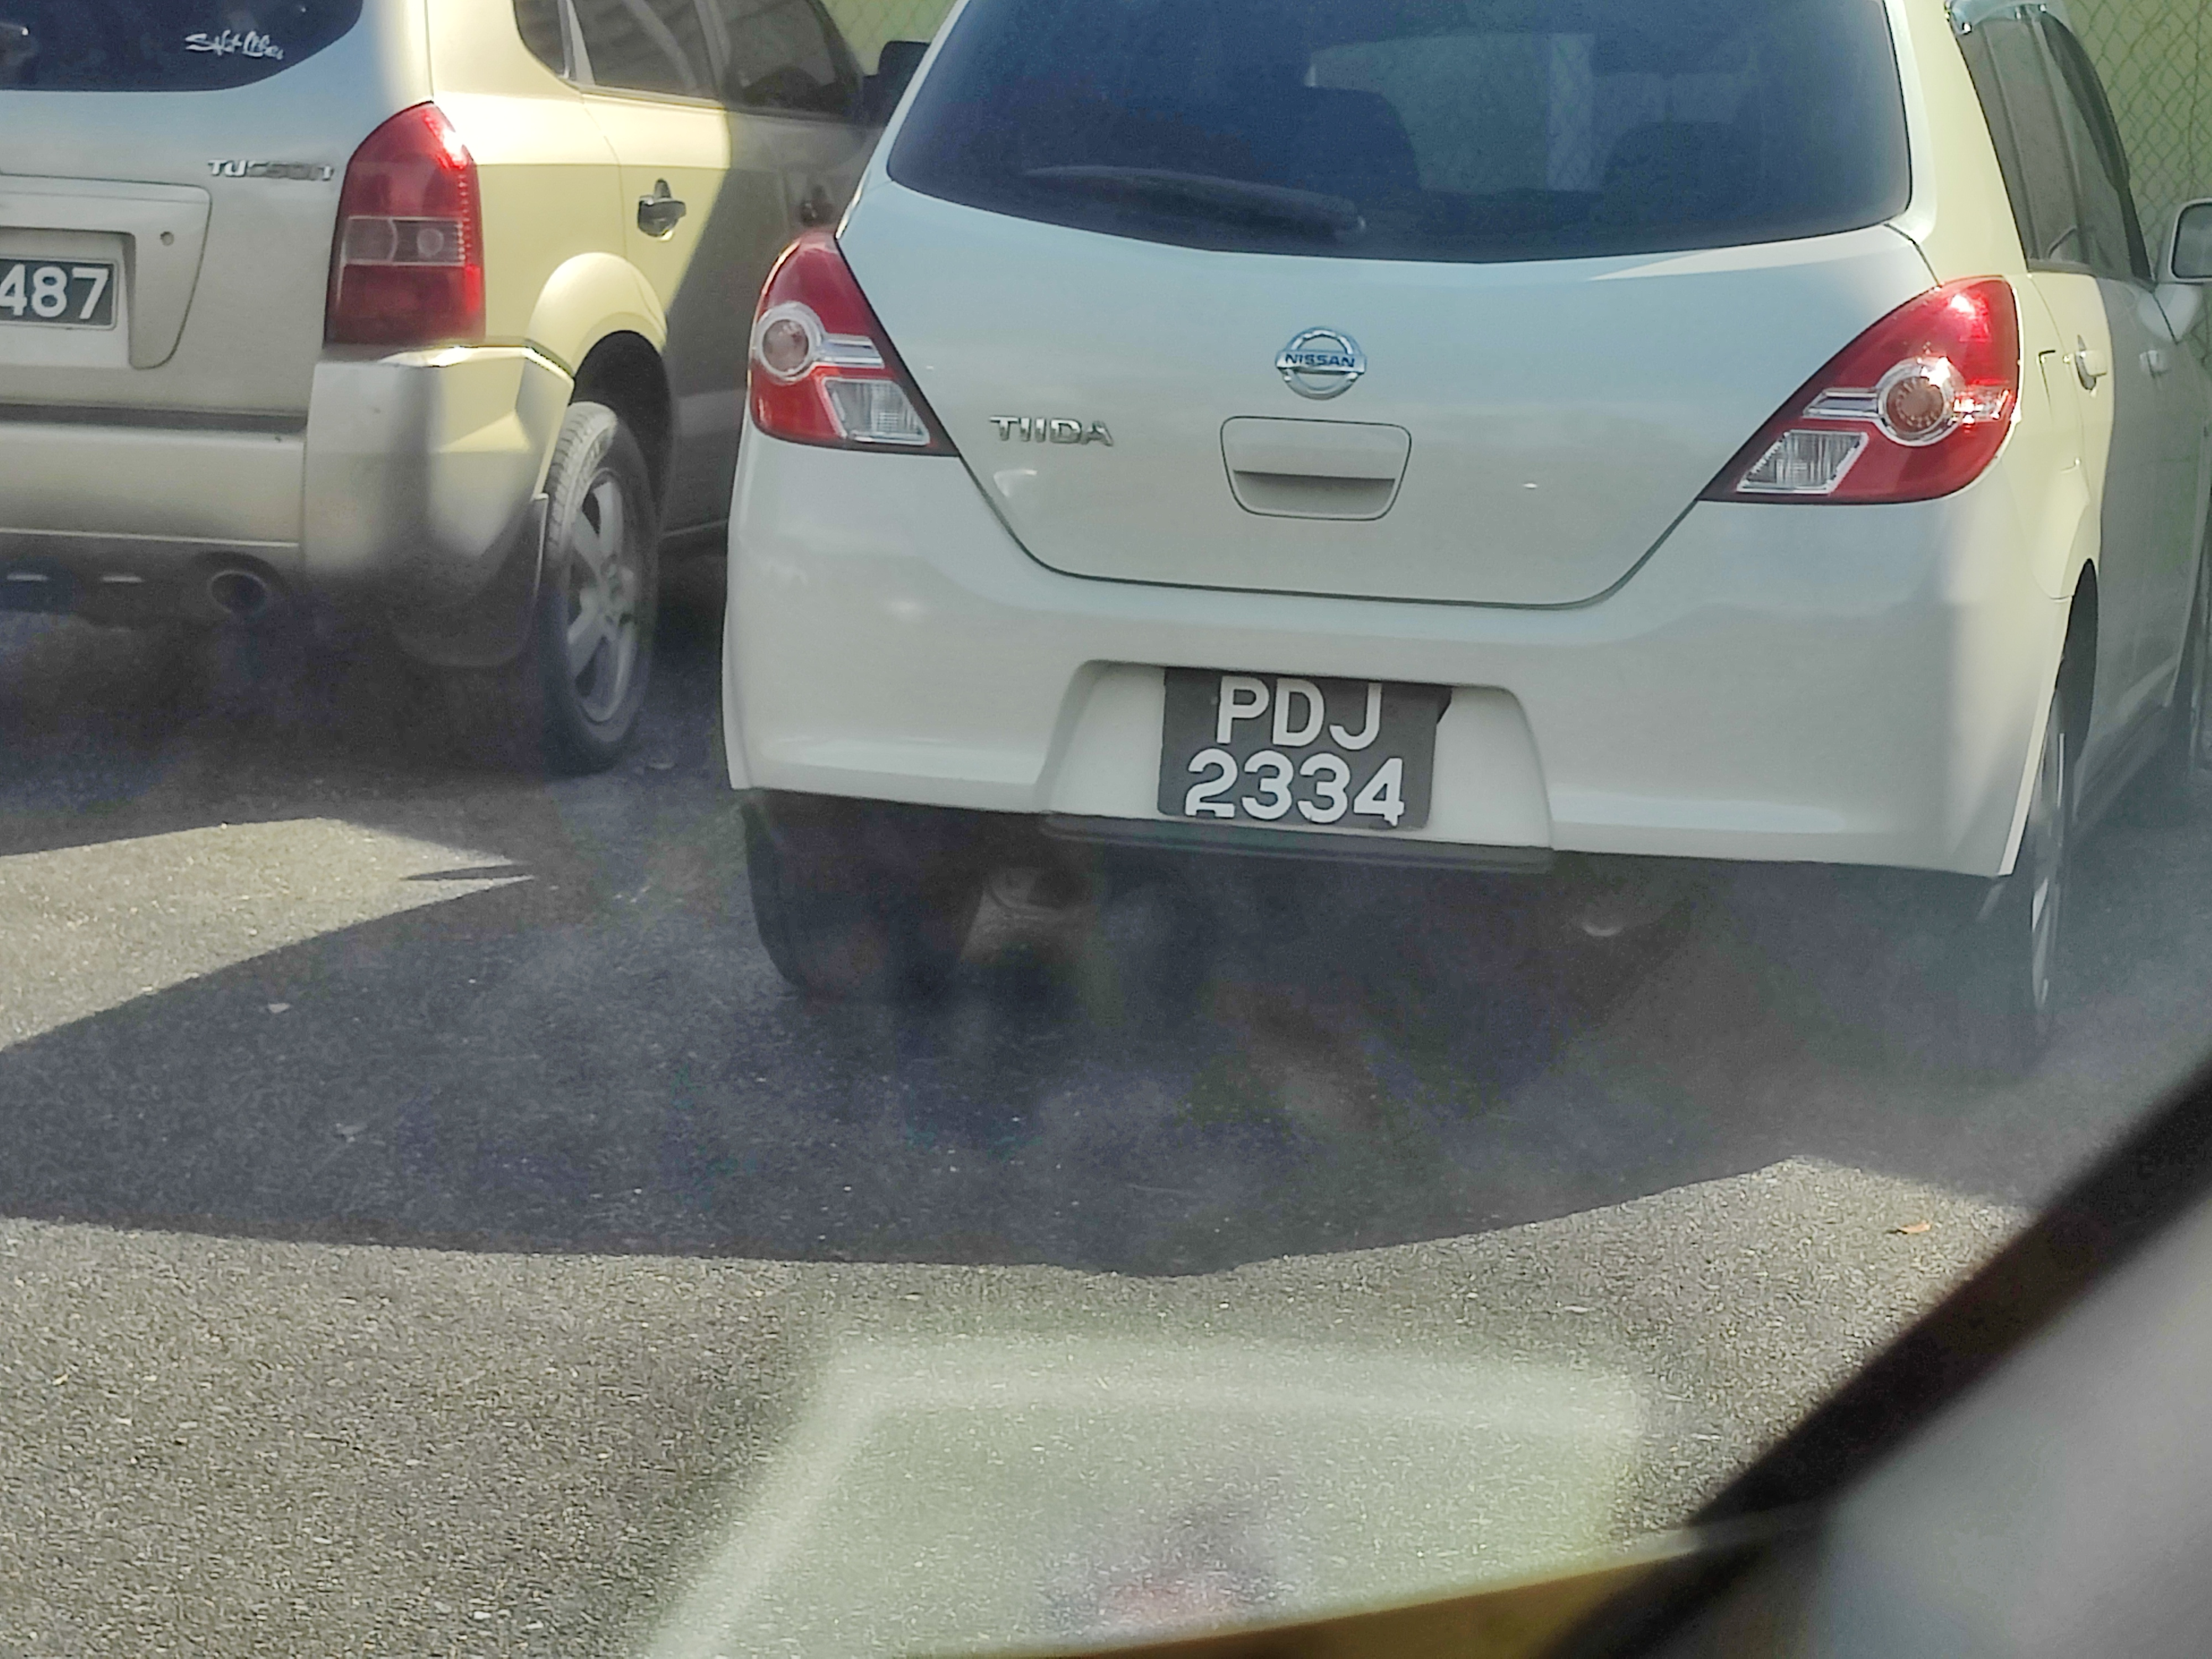License-Plate: (1170, 662, 1438, 815)
